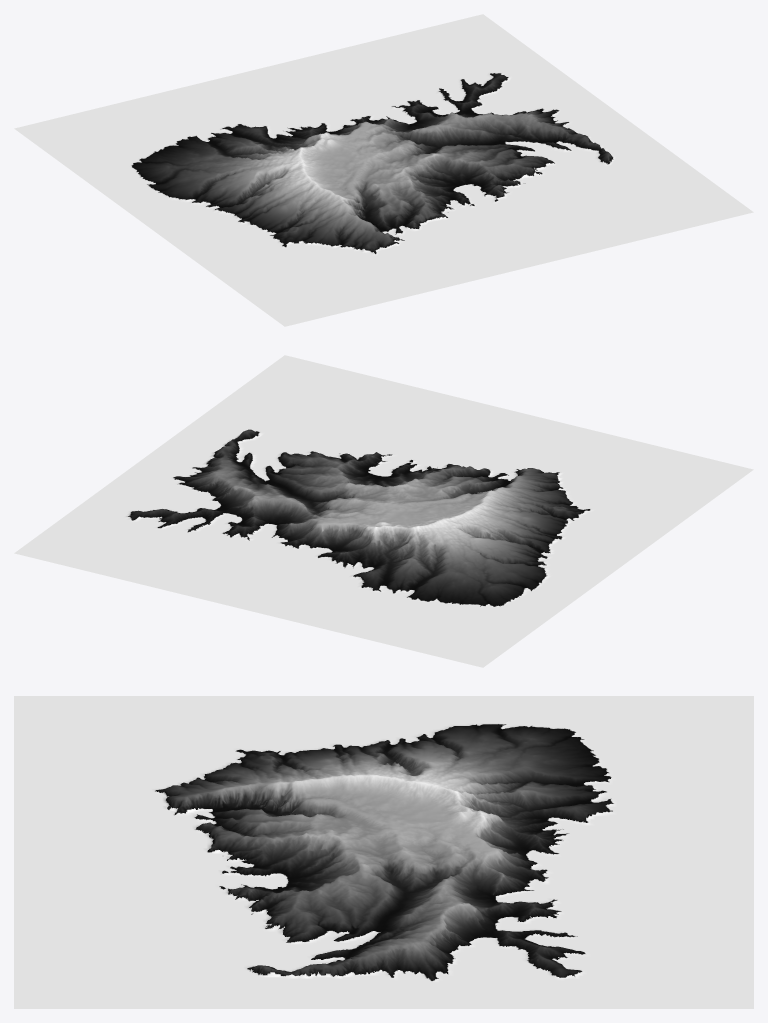
The picture shows the model from 3 angles, top to bottom: view 1: azimuth 30°, elevation 25°; view 2: azimuth 150°, elevation 25°; view 3: azimuth 270°, elevation 25°; orthographic projection. The views are drawn at different scales.
Parts seen in each view (by area): view 1: mnt-marq-nkh; view 2: mnt-marq-nkh; view 3: mnt-marq-nkh.
Boxes of the visible parts, x1,y1,x2,y2 form: mnt-marq-nkh: [14, 14, 753, 326]; mnt-marq-nkh: [14, 355, 753, 667]; mnt-marq-nkh: [14, 696, 753, 1008].
Bounding box in the file's own units: 32969 × 1196 × 32969.
Materials: 1 (1 with a texture image).
